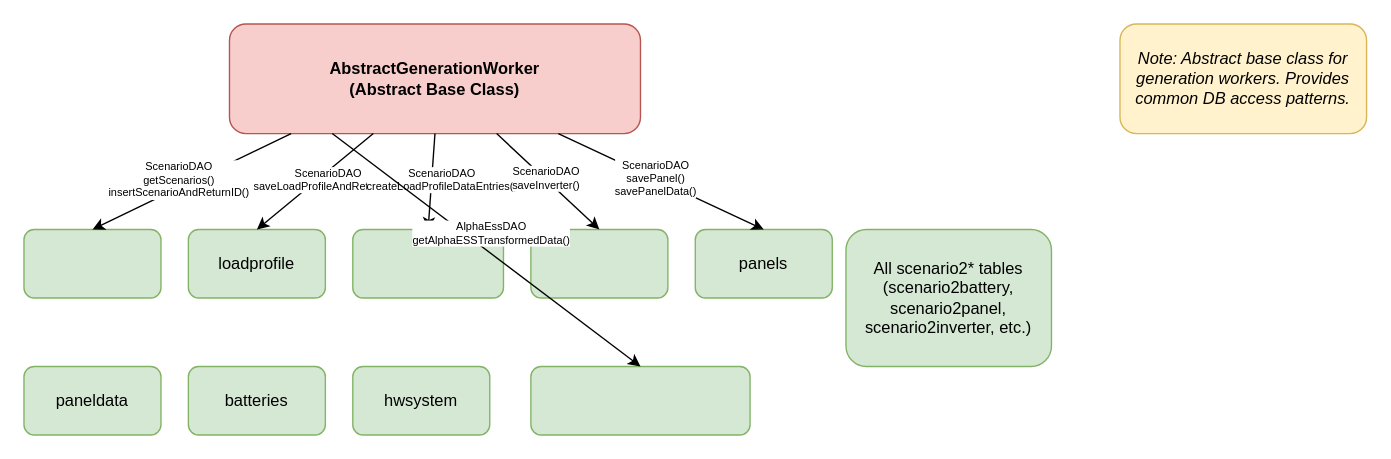
The diagram is 1391 pixels wide and 459 high, and some of its shapes have lost their labels. Each missing label, with the centre of its shape:
alphaESSTransformedData: (x=640, y=400)
inverters: (x=599, y=263)
loadprofiledata: (x=427, y=263)
scenarios: (x=92, y=263)
